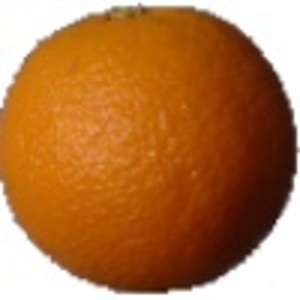laranja: (3, 5, 298, 297)
